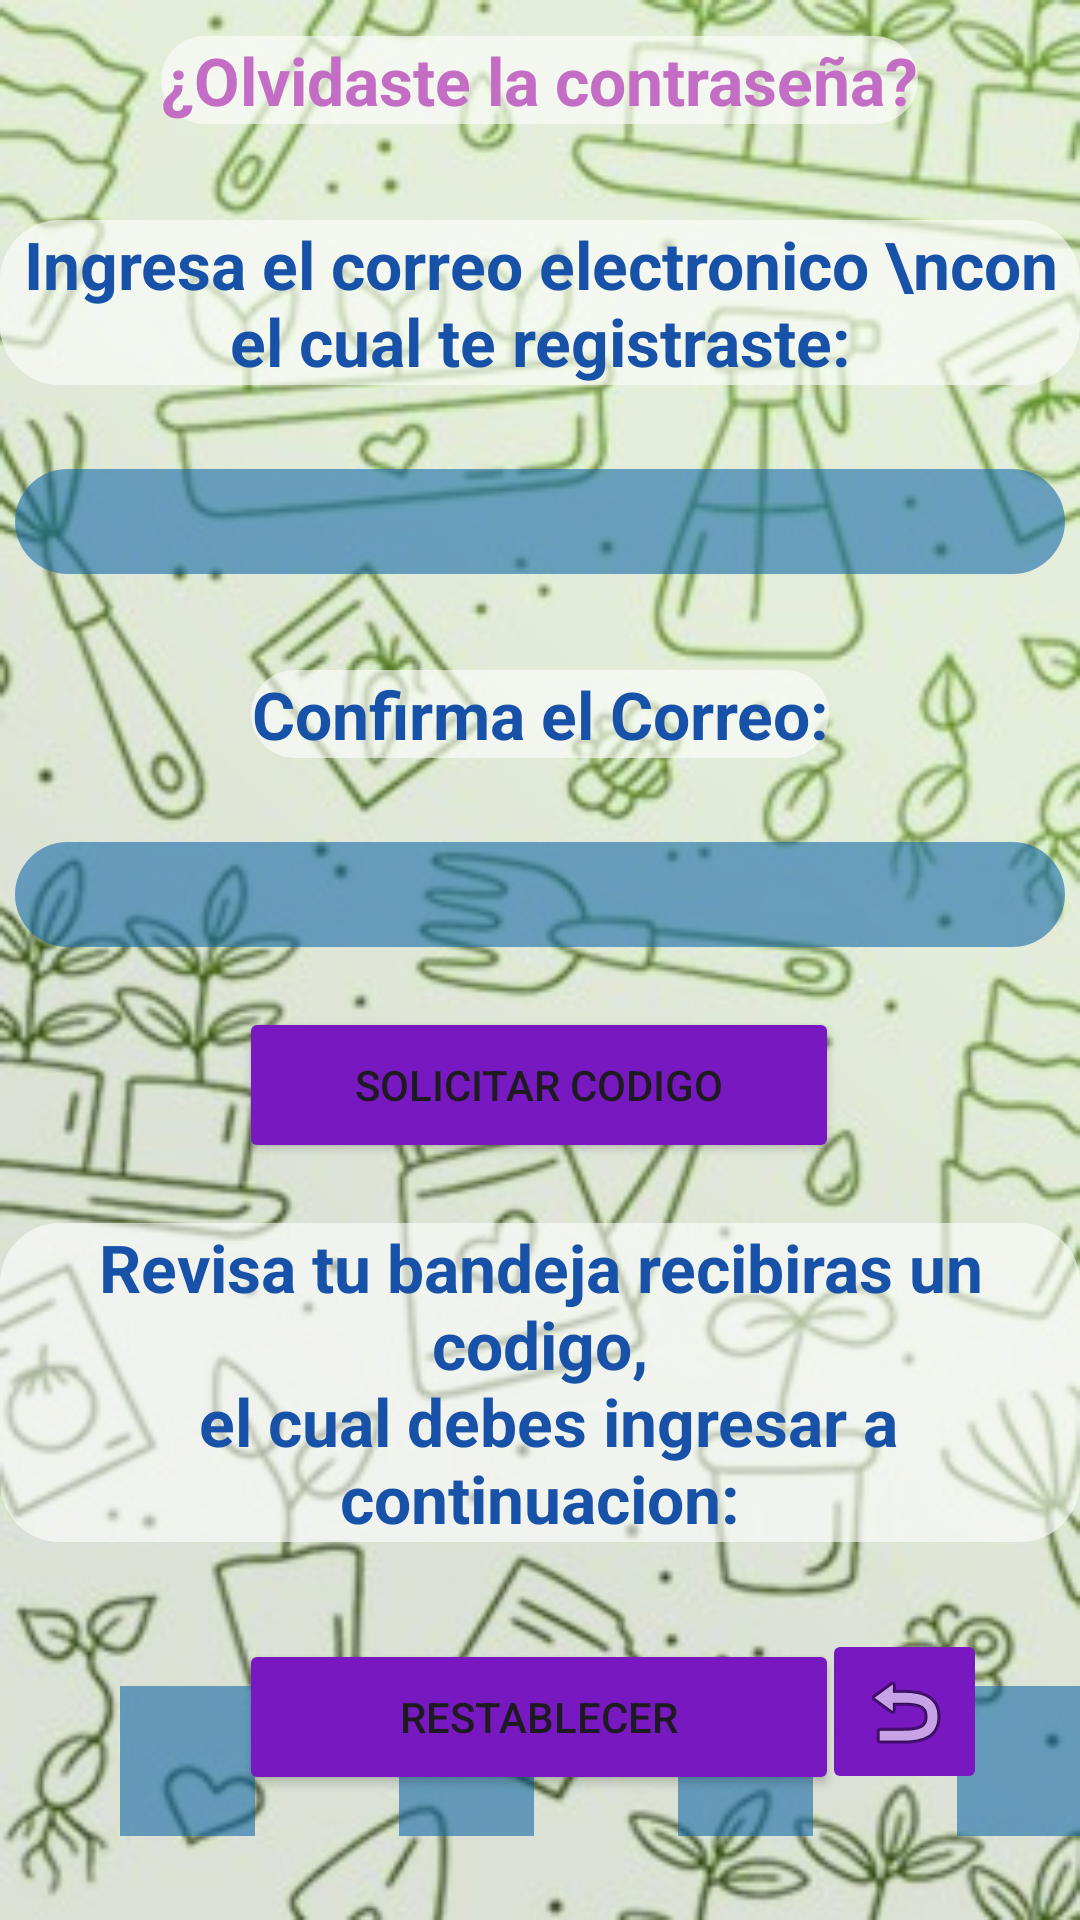

Icon click points for this 1080×1920 phone screenshot, format [x,y]:
Regresar: [904,1711]
